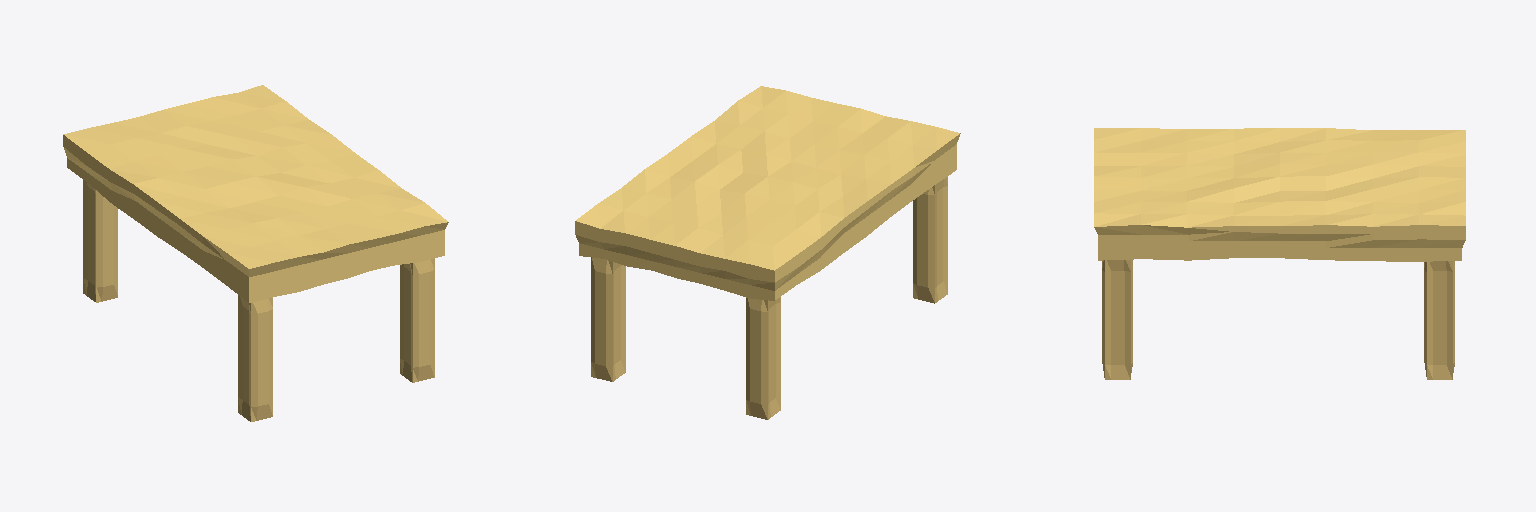
File: table_obj.obj
3 views of the same model, side by side, from view 1: azimuth 30°, elevation 25°; view 2: azimuth 150°, elevation 25°; view 3: azimuth 270°, elevation 25° (orthographic).
Visible parts, largest first — view 1: pCube2, pCube3, pCube4, pCube6; view 2: pCube2, pCube5, pCube6, pCube3; view 3: pCube2, pCube4, pCube5.
Boxes of the visible parts, x1=… form: pCube2: x1=63, y1=85, x2=448, y2=302; pCube3: x1=238, y1=295, x2=272, y2=421; pCube4: x1=400, y1=258, x2=434, y2=382; pCube6: x1=83, y1=180, x2=117, y2=302; pCube2: x1=575, y1=86, x2=960, y2=300; pCube5: x1=591, y1=257, x2=625, y2=381; pCube6: x1=746, y1=297, x2=780, y2=419; pCube3: x1=913, y1=177, x2=947, y2=303; pCube2: x1=1094, y1=128, x2=1465, y2=261; pCube4: x1=1102, y1=260, x2=1132, y2=379; pCube5: x1=1424, y1=261, x2=1454, y2=379.
Size of the model in its own units: 5.07 by 3.88 by 8.19.